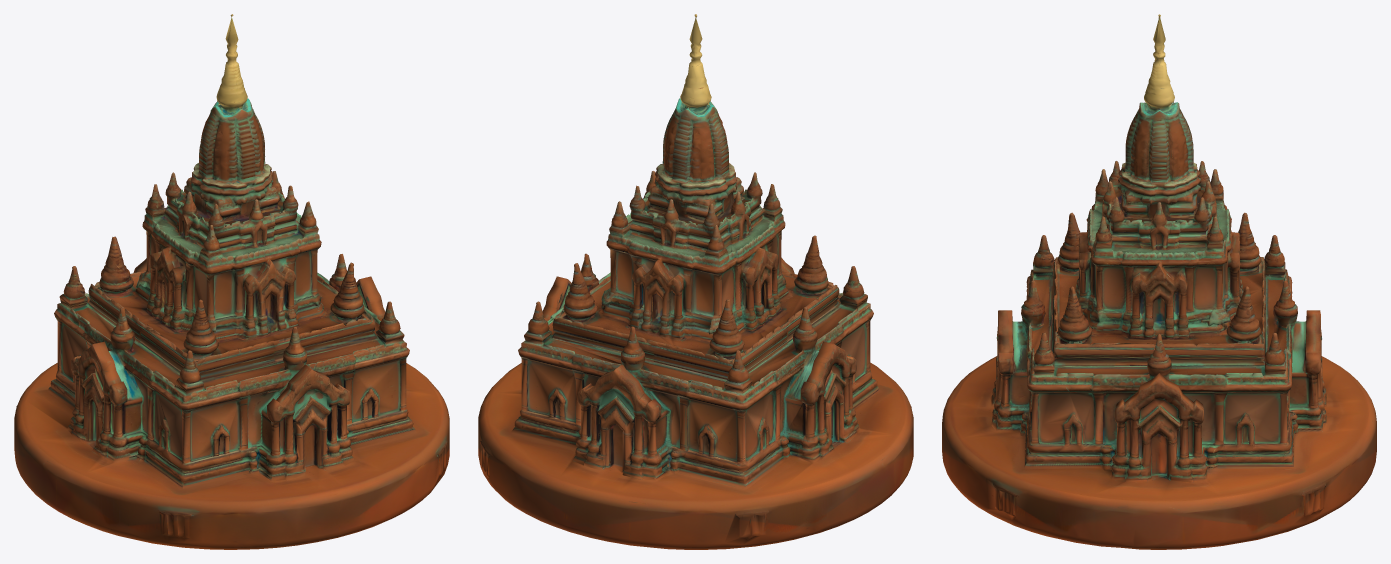
File: bagan_meshy.glb
3 views of the same model, side by side, from view 1: azimuth 30°, elevation 25°; view 2: azimuth 150°, elevation 25°; view 3: azimuth 270°, elevation 25° (orthographic).
Parts seen in each view (by area): view 1: Mesh_0; view 2: Mesh_0; view 3: Mesh_0.
Boxes of the visible parts, bbox=[...] form: Mesh_0: bbox=[14, 14, 449, 549]; Mesh_0: bbox=[478, 14, 913, 549]; Mesh_0: bbox=[942, 14, 1376, 549].
Bounding box in the file's own units: 1.68 × 1.91 × 1.68.
Materials: 1 (1 with a texture image).
